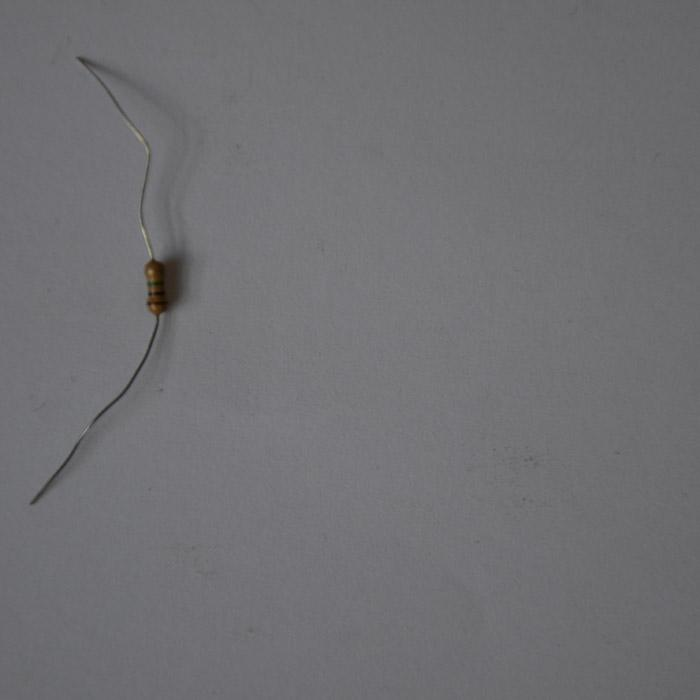resistor: (143, 257, 168, 314)
